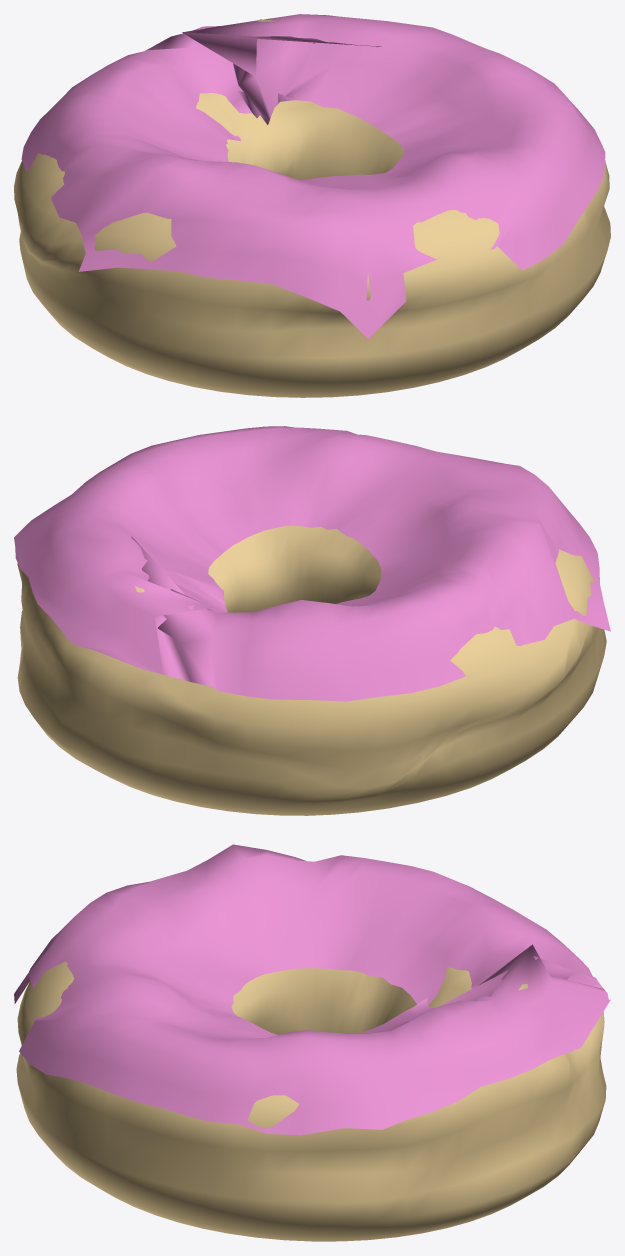
Rendered from donut.glb.
3 views of the same model, one above another, from view 1: azimuth 30°, elevation 25°; view 2: azimuth 150°, elevation 25°; view 3: azimuth 270°, elevation 25° (orthographic).
Visible parts, largest first — view 1: Icing, Donut; view 2: Icing, Donut; view 3: Icing, Donut.
Part boxes in pixels (x1,y1,x2,y2): Icing: (21, 14, 605, 338); Donut: (14, 19, 610, 397); Icing: (14, 426, 610, 701); Donut: (17, 525, 606, 815); Icing: (14, 844, 610, 1135); Donut: (16, 961, 606, 1241).
Size of what is drawn, in the model's own units: 0.147 by 0.0575 by 0.1452.
